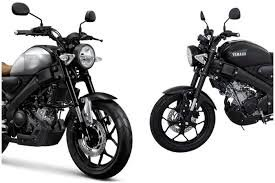motor: (1, 7, 133, 181), (149, 8, 275, 156)
